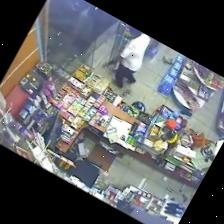person: (114, 32, 149, 87)
